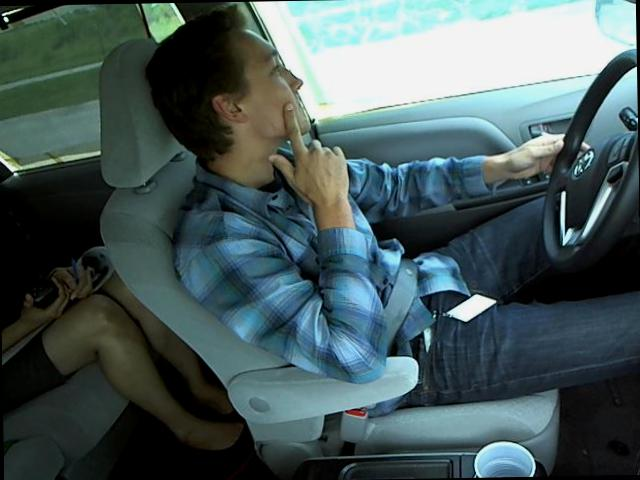c6 - Hair and Makeup: (137, 6, 639, 394)
